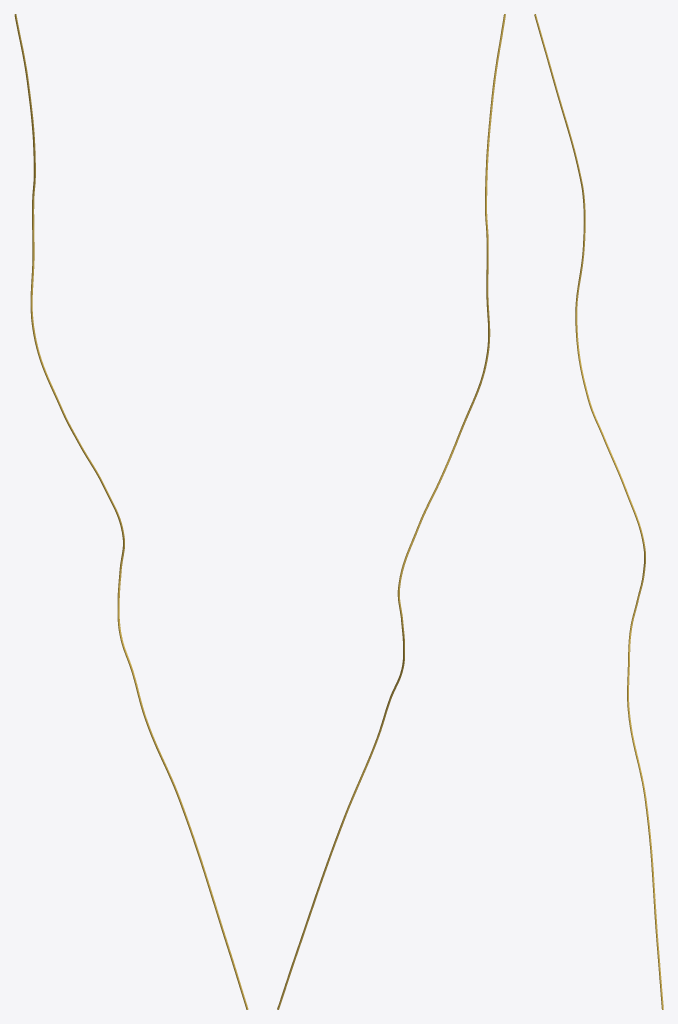
File: Median_nerve_left.glb
3 views of the same model, side by side, from view 1: azimuth 30°, elevation 25°; view 2: azimuth 210°, elevation 25°; view 3: azimuth 330°, elevation 25° (orthographic). The views are drawn at different scales.
Visible parts, largest first — view 1: Median_nerve.l_BezierCurve.505; view 2: Median_nerve.l_BezierCurve.505; view 3: Median_nerve.l_BezierCurve.505.
Part boxes in pixels (bbox=[...]): Median_nerve.l_BezierCurve.505: bbox=[14, 14, 248, 1009]; Median_nerve.l_BezierCurve.505: bbox=[277, 14, 505, 1009]; Median_nerve.l_BezierCurve.505: bbox=[534, 14, 663, 1009].
Bounding box in the file's own units: 0.0997 × 0.5114 × 0.0605.
